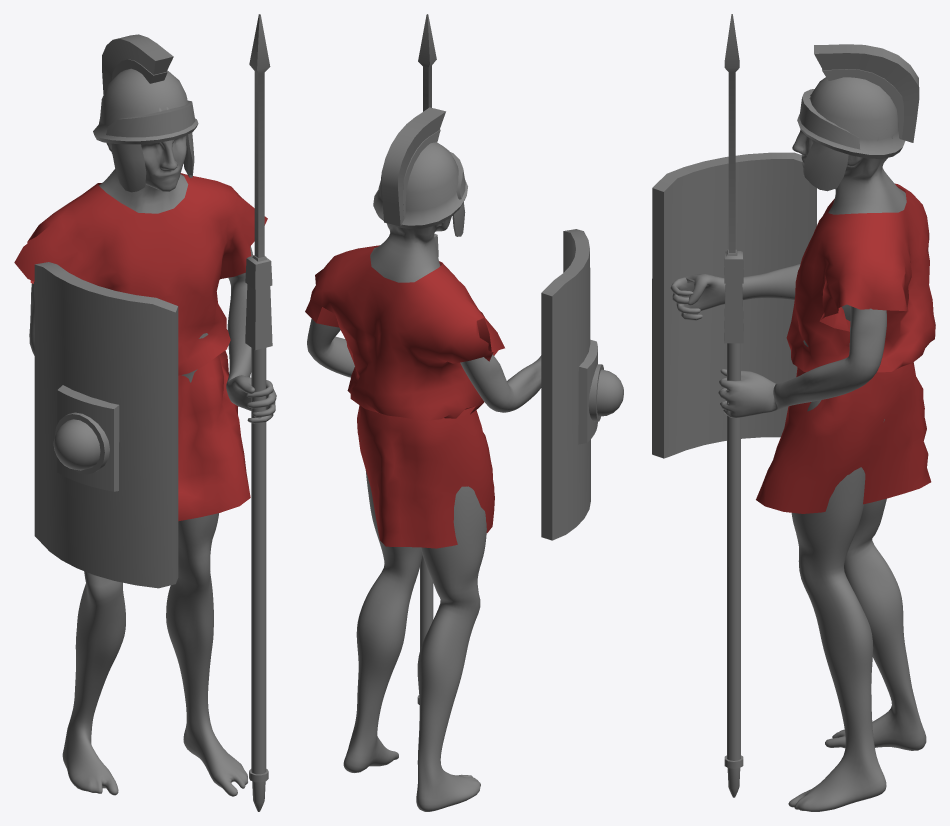
Rendered from SM_sculpture_soldier.fbx.
3 views of the same model, side by side, from view 1: azimuth 30°, elevation 25°; view 2: azimuth 150°, elevation 25°; view 3: azimuth 270°, elevation 25° (orthographic). The views are drawn at different scales.
Parts seen in each view (by area): view 1: 434435; view 2: 434435; view 3: 434435.
Part boxes in pixels (x1=…): 434435: x1=14, y1=14, x2=276, y2=811; 434435: x1=305, y1=14, x2=623, y2=811; 434435: x1=652, y1=14, x2=935, y2=811.
Bounding box in the file's own units: 28.89 × 80.71 × 26.26.
